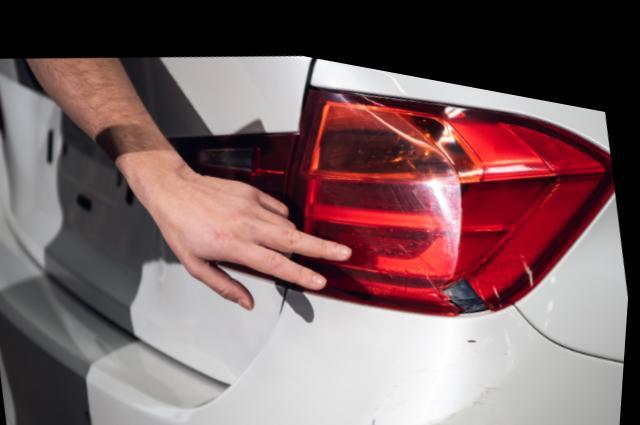lamp broken: (297, 82, 614, 299)
scratch: (357, 407, 438, 425)
